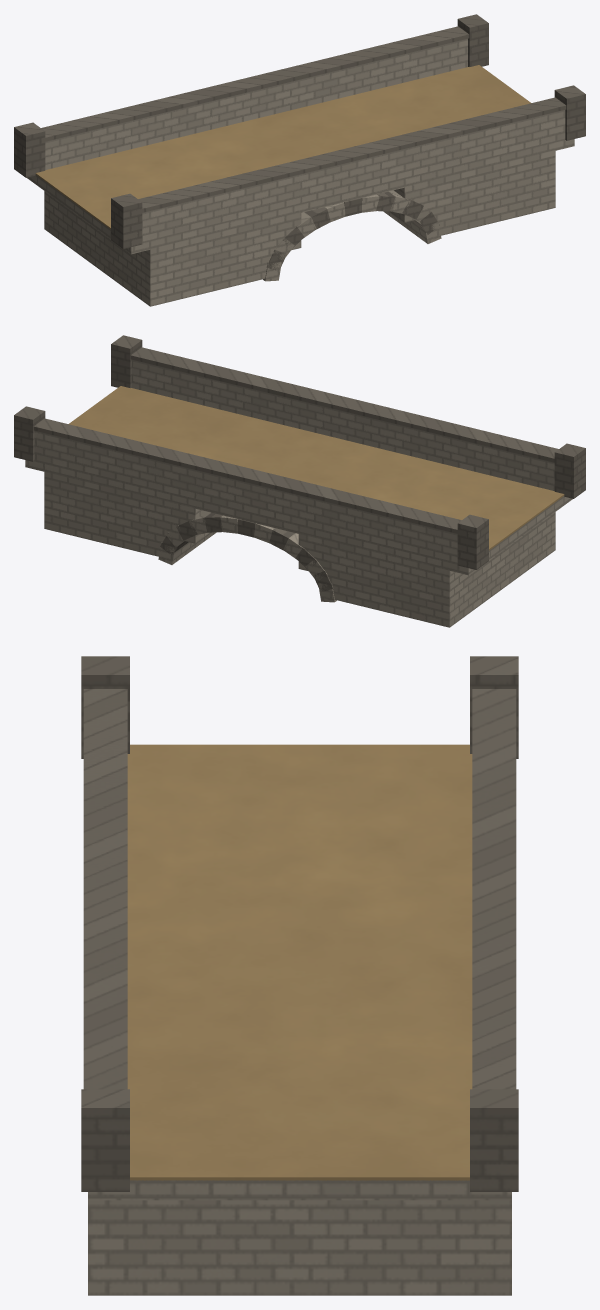
File: bridge.glb
3 renders of one model, top to bottom at view 1: azimuth 30°, elevation 25°; view 2: azimuth 150°, elevation 25°; view 3: azimuth 270°, elevation 25°, orthographic. The views are drawn at different scales.
Visible parts, largest first — view 1: bridge; view 2: bridge; view 3: bridge.
Boxes of the visible parts, x1,y1,x2,y2 form: bridge: (14,14,585,306); bridge: (14,335,585,627); bridge: (81,656,518,1295).
Size of the model in its own units: 12.1 by 2.82 by 4.95.
Materials: 1 (1 with a texture image).
